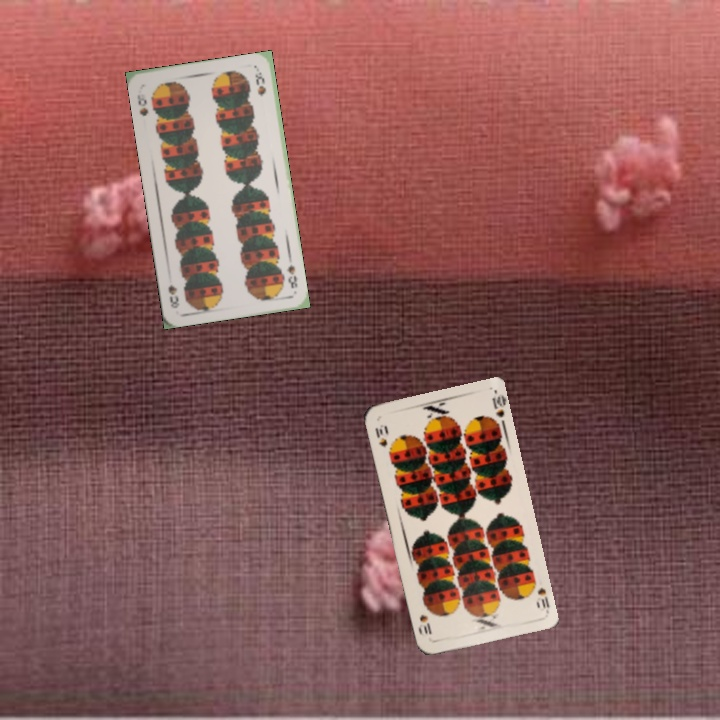S10: (533, 583, 552, 614), (371, 421, 390, 450)
S8: (282, 260, 300, 291), (133, 90, 151, 119)
